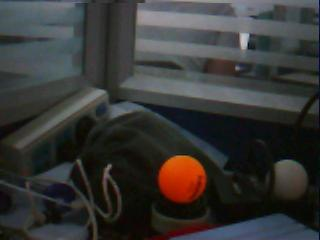oball: (158, 156, 205, 201)
